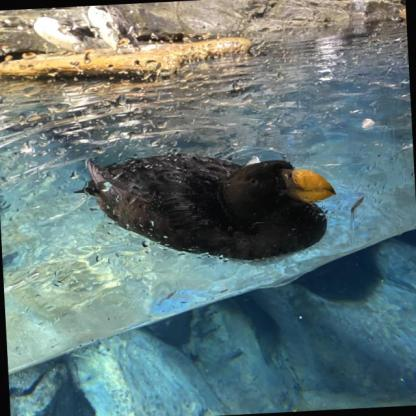puffin: (83, 146, 338, 272), (89, 3, 140, 55), (34, 16, 88, 56)
